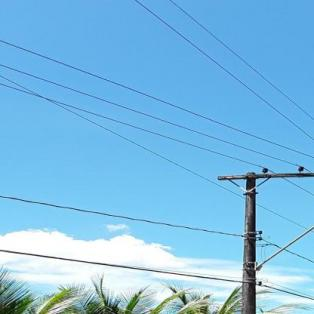Poste: (225, 170, 266, 314)
